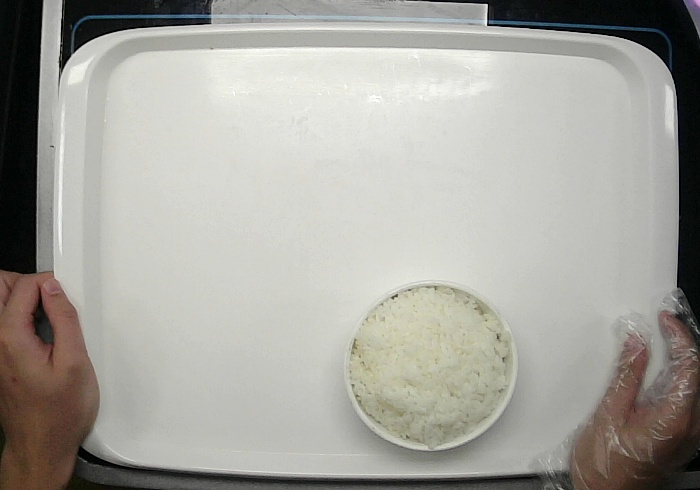HZYJPL-Fan_Wan: (341, 276, 520, 452)
